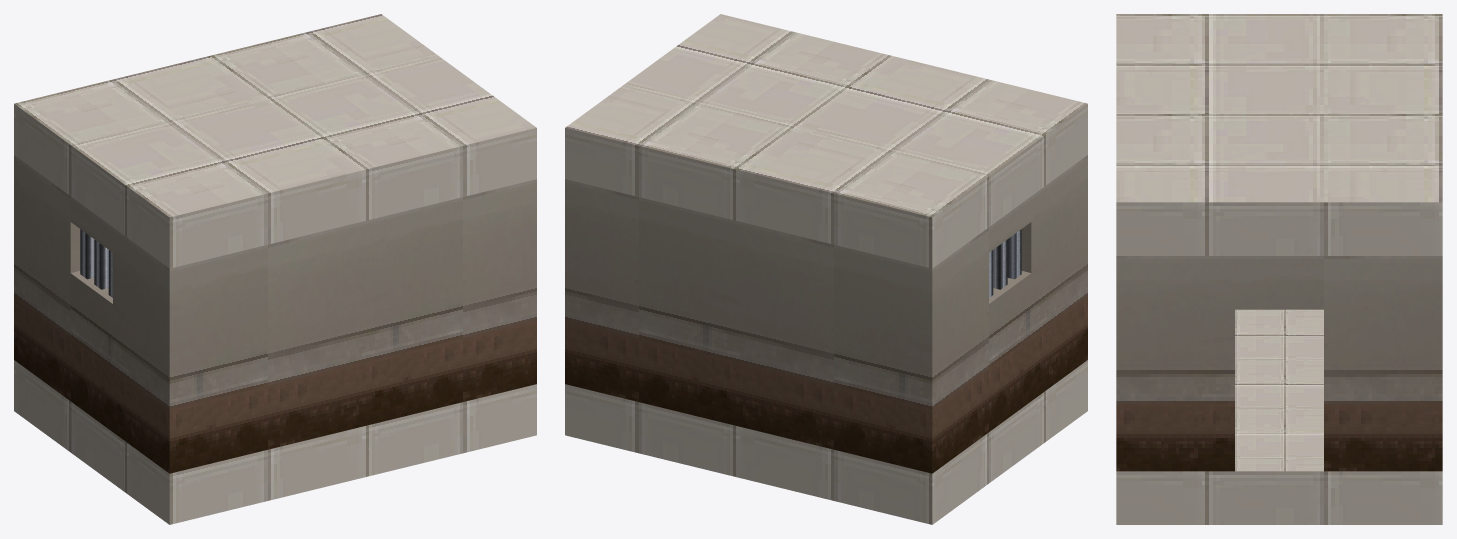
Rendered from cell_01.obj.
3 renders of one model, left to right at view 1: azimuth 30°, elevation 25°; view 2: azimuth 150°, elevation 25°; view 3: azimuth 270°, elevation 25°, orthographic. The views are drawn at different scales.
Parts seen in each view (by area): view 1: entity0_brush23, entity0_brush2, entity0_brush0, entity0_brush3, entity0_brush4, entity0_brush6, entity0_brush1, entity0_brush5, entity0_brush21, entity0_brush22; view 2: entity0_brush23, entity0_brush1, entity0_brush0, entity0_brush4, entity0_brush3, entity0_brush6, entity0_brush2, entity0_brush5, entity0_brush21, entity0_brush19; view 3: entity0_brush23, entity0_brush0, entity0_brush7, entity0_brush8, entity0_brush1, entity0_brush2, entity0_brush9.
Boxes of the visible parts, x1,y1,x2,y2 form: entity0_brush23: [14, 14, 536, 268]; entity0_brush2: [155, 179, 536, 473]; entity0_brush0: [14, 360, 536, 524]; entity0_brush3: [28, 165, 80, 400]; entity0_brush4: [113, 227, 155, 462]; entity0_brush6: [70, 271, 112, 431]; entity0_brush1: [14, 155, 28, 369]; entity0_brush5: [70, 196, 112, 252]; entity0_brush21: [94, 239, 108, 289]; entity0_brush22: [80, 229, 94, 279]; entity0_brush23: [565, 14, 1087, 268]; entity0_brush1: [565, 179, 946, 473]; entity0_brush0: [565, 360, 1087, 524]; entity0_brush4: [1021, 165, 1073, 400]; entity0_brush3: [946, 227, 988, 462]; entity0_brush6: [989, 271, 1031, 431]; entity0_brush2: [1073, 155, 1087, 369]; entity0_brush5: [989, 196, 1031, 252]; entity0_brush21: [993, 239, 1007, 289]; entity0_brush19: [1007, 229, 1021, 279]; entity0_brush23: [1116, 14, 1442, 255]; entity0_brush0: [1116, 309, 1442, 524]; entity0_brush7: [1324, 256, 1412, 471]; entity0_brush8: [1146, 256, 1234, 471]; entity0_brush1: [1413, 256, 1442, 471]; entity0_brush2: [1116, 256, 1145, 471]; entity0_brush9: [1235, 256, 1323, 309].
Bounding box in the file's own units: 240 × 192 × 176.
